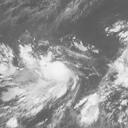cyclone: (37, 62, 74, 98)
